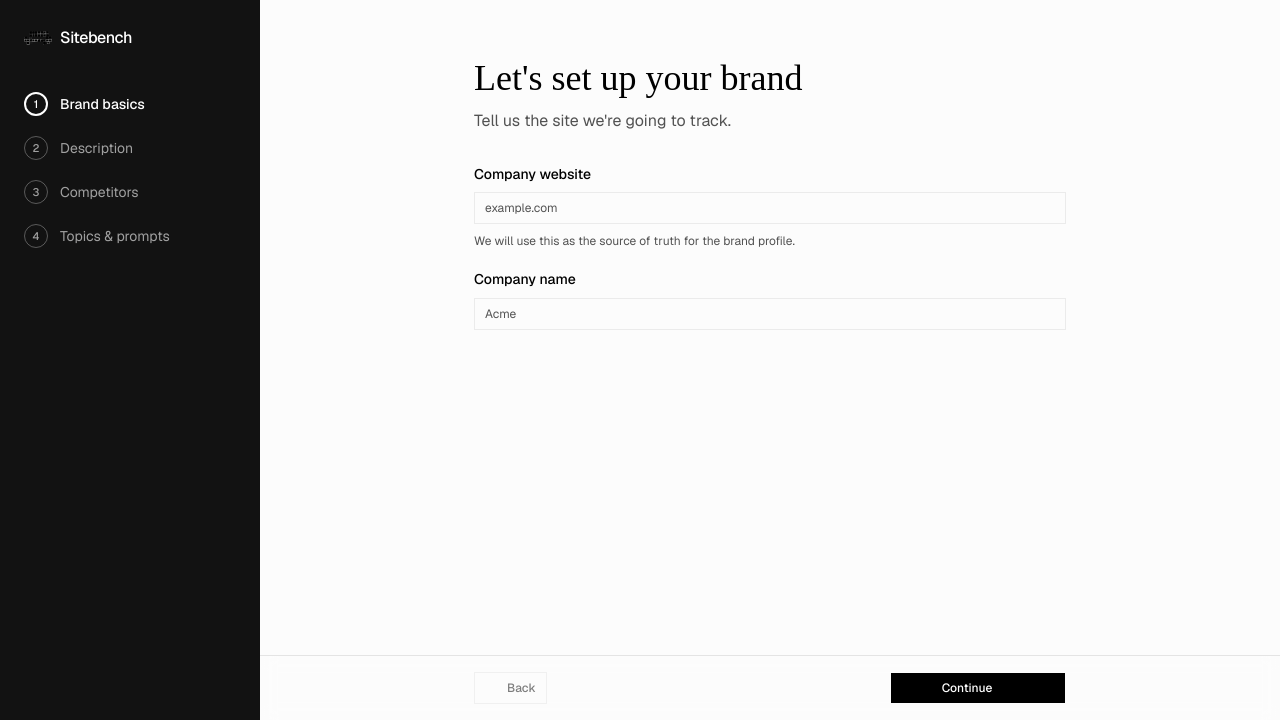
Test case: Onboarding wizard › shows a live brand preview on step 1 when the website is valid
Type "acme.com" into the field labelled "Company website". click: [770, 208]
box: [474, 192, 1066, 224]
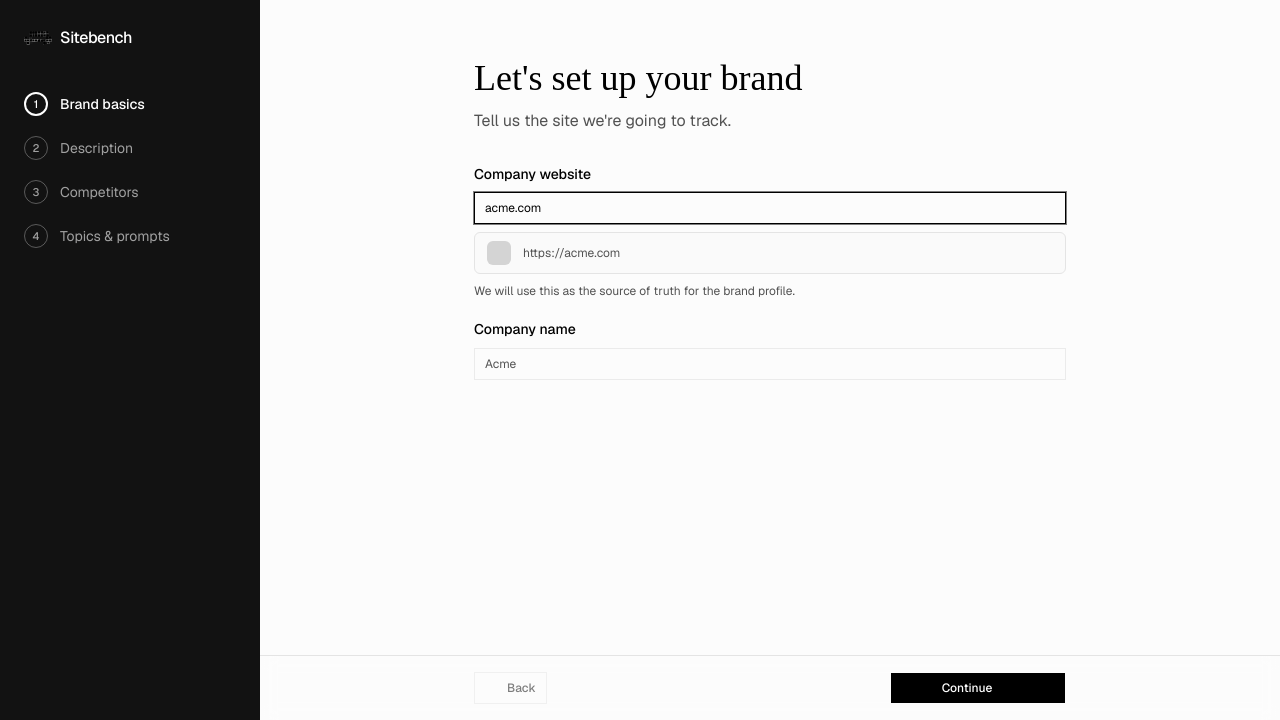
Expected: the text "https://acme.com" is shown, [523, 245, 620, 261]
